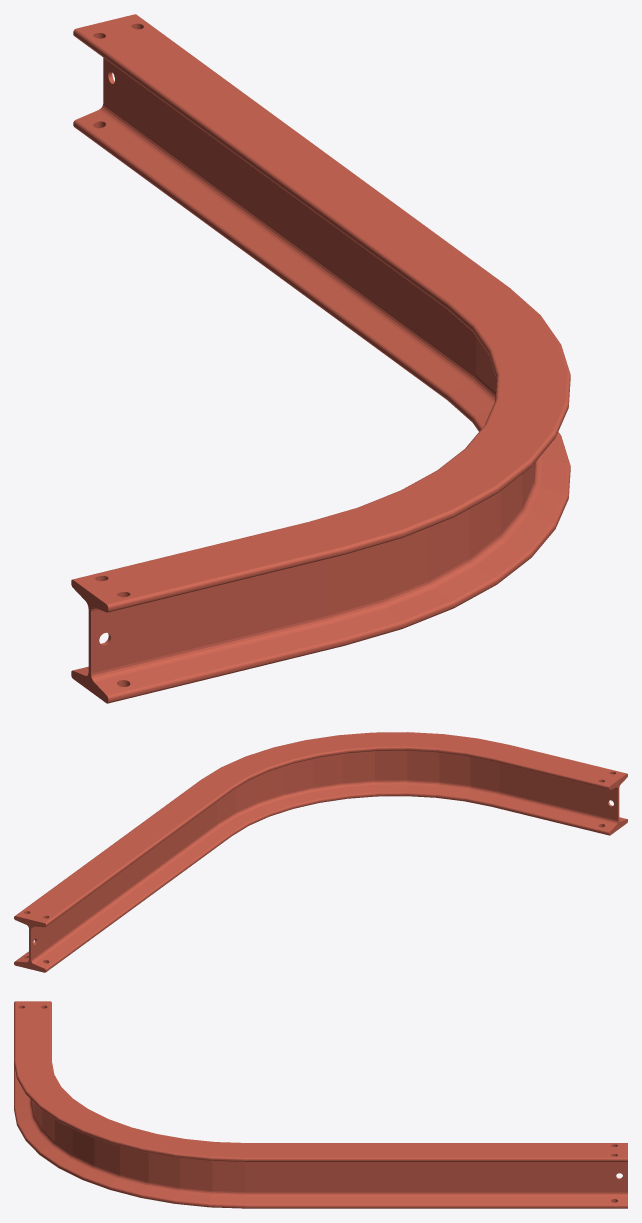
File: EV-CM-HC-110 - H-Profile Curved.glb
The picture shows the model from 3 angles, top to bottom: view 1: azimuth 30°, elevation 25°; view 2: azimuth 150°, elevation 25°; view 3: azimuth 270°, elevation 25°; orthographic projection. The views are drawn at different scales.
Visible parts, largest first — view 1: H-Profile_Curved; view 2: H-Profile_Curved; view 3: H-Profile_Curved.
Boxes of the visible parts, x1,y1,x2,y2 form: H-Profile_Curved: (71,14,570,703); H-Profile_Curved: (14,732,627,972); H-Profile_Curved: (14,1001,627,1208).
Bounding box in the file's own units: 663 × 99.91 × 1096.
